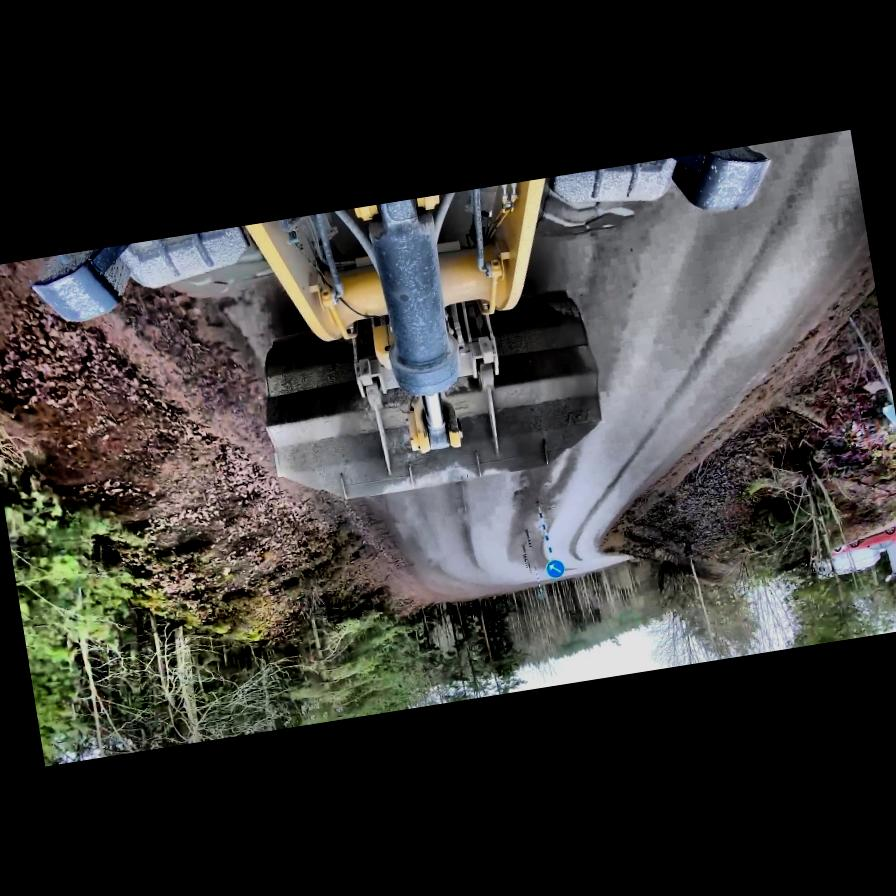anchor: (402, 390, 463, 456)
